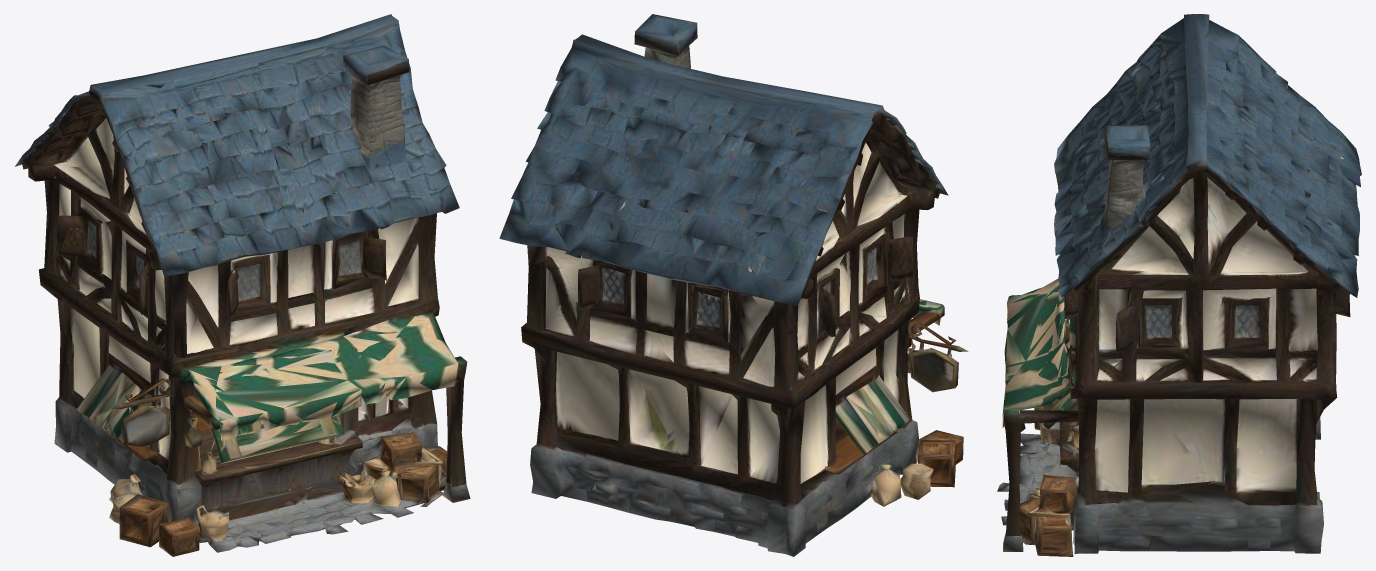
File: house_trader_lod0.glb
3 renders of one model, left to right at view 1: azimuth 30°, elevation 25°; view 2: azimuth 150°, elevation 25°; view 3: azimuth 270°, elevation 25°, orthographic.
Visible parts, largest first — view 1: Mesh_0; view 2: Mesh_0; view 3: Mesh_0.
Part boxes in pixels (left/top/right/bottom): Mesh_0: left=15, top=14, right=470, bottom=556; Mesh_0: left=499, top=14, right=968, bottom=556; Mesh_0: left=997, top=14, right=1361, bottom=556.
Bounding box in the file's own units: 1.65 × 1.9 × 1.55.
1 material, 1 textured.
